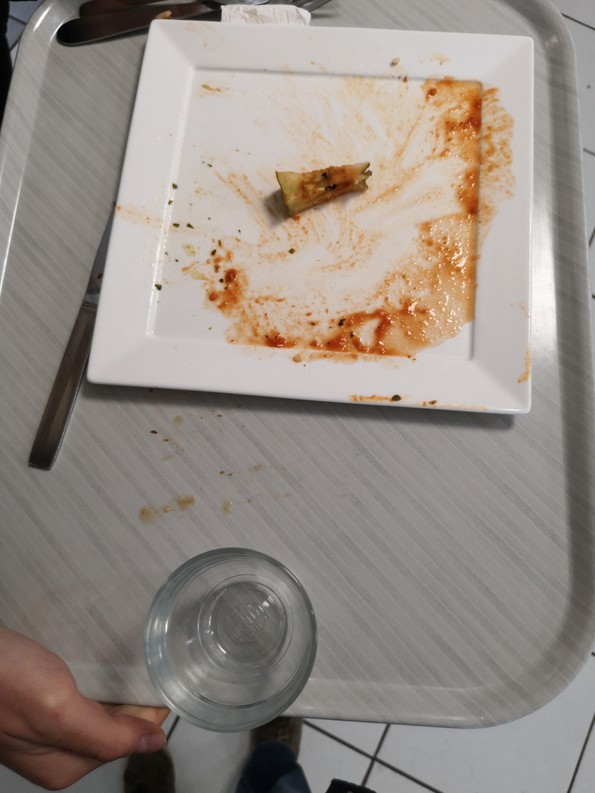cup: (130, 549, 323, 736)
cutlery: (23, 203, 117, 468)
orga: (279, 161, 387, 234)
